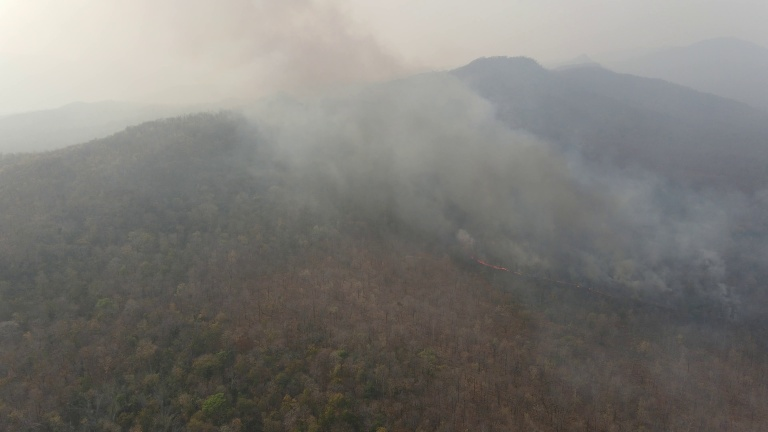fire: (545, 273, 614, 294), (470, 255, 522, 278)
smoke: (232, 2, 727, 269)
